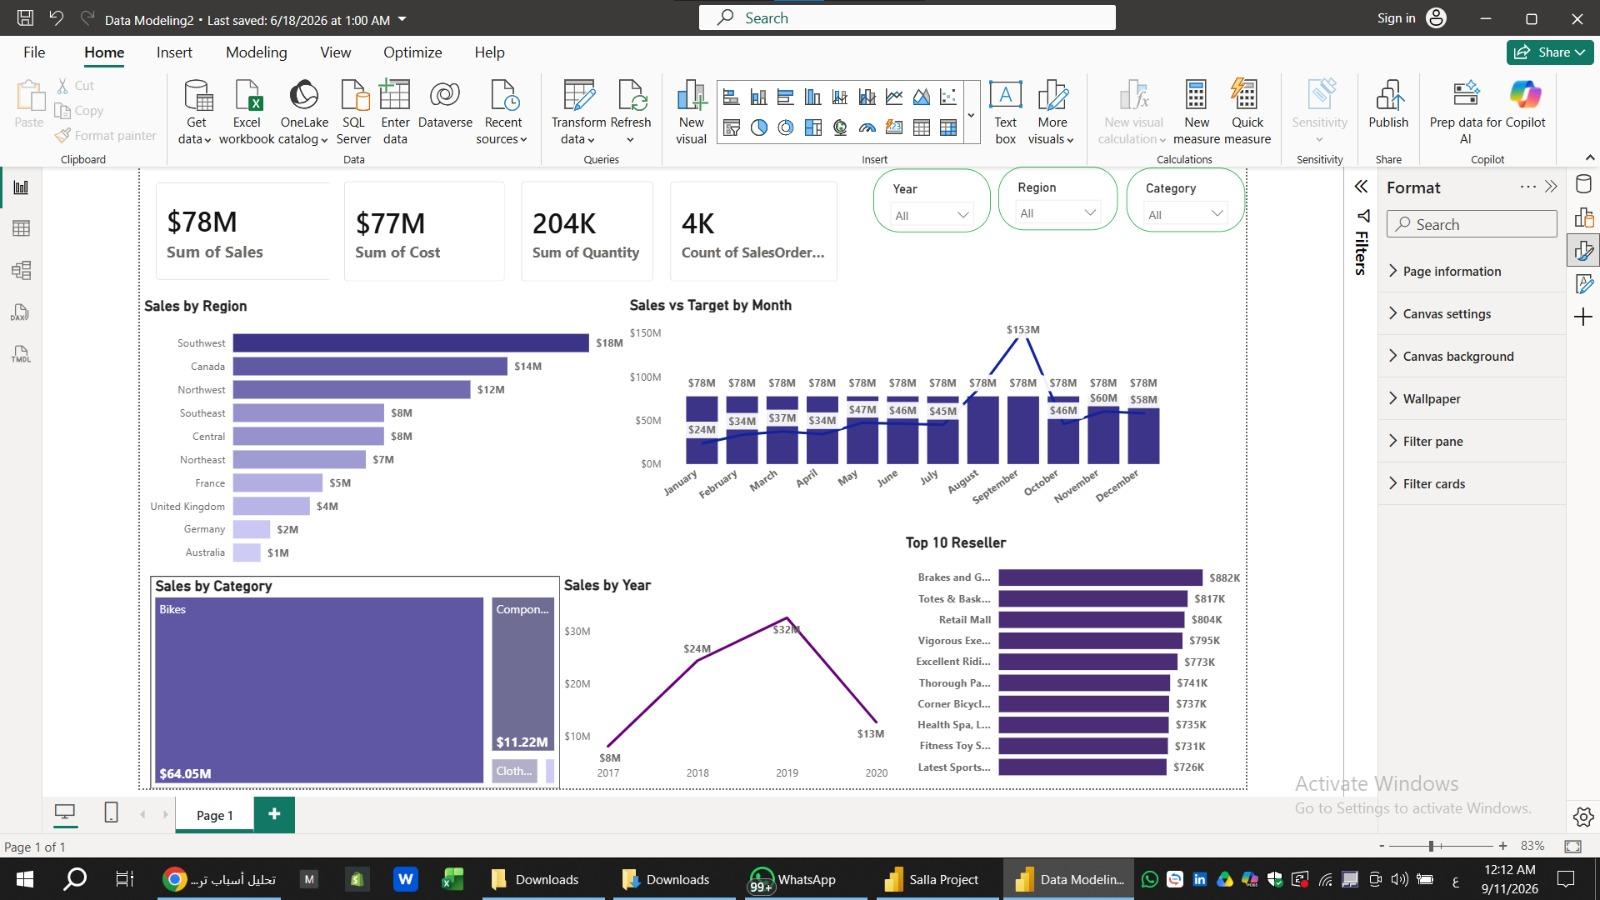

The page's visual inventory and layout, read from the dashboard file:
{"tool":"powerbi","page":{"name":"Page 1","canvas":[1280,720],"ordinal":0},"visuals":[{"type":"cardVisual","fields":{"Data":["Sum(Facts Sales.Sales)"]},"box":[0,0,241.1,149.3],"z":0},{"type":"cardVisual","fields":{"Data":["Sum(Facts Sales.Cost)"]},"box":[219.2,0,220.5,150.7],"z":1000},{"type":"cardVisual","fields":{"Data":["Count(Facts Sales.SalesOrderNumber)"]},"box":[597.2,0,228,150.8],"z":2000},{"type":"cardVisual","fields":{"Data":["Sum(Facts Sales.Quantity)"]},"box":[424.7,0,187.7,150.7],"z":3000},{"type":"barChart","title":"Sales by Region","fields":{"Category":["Dim Region.Region"],"Y":["Sum(Facts Sales.Sales)"]},"box":[0,150.7,571.2,323.3],"z":4000},{"type":"treemap","title":"Sales by Category","fields":{"Group":["Dim Product.Category"],"Values":["Sum(Facts Sales.Sales)"]},"box":[12.1,474.1,474.1,246.1],"z":5000},{"type":"barChart","title":"Top 10 Reseller","fields":{"Category":["Dim Reseller.Reseller"],"Y":["Sum(Facts Sales.Sales)"]},"box":[881.9,424.7,398.1,295.6],"z":6000},{"type":"lineStackedColumnComboChart","title":"Sales vs Target by Month","fields":{"Category":["Dim Targets.TargetMonth.Variation.Date Hierarchy.Month"],"Y":["Sum(Facts Sales.Sales)"],"Y2":["Sum(Dim Targets.Target)"]},"box":[562.2,149.6,643,263],"z":7000},{"type":"lineChart","title":" Sales by Year","fields":{"Category":["Facts Sales.OrderDate.Variation.Date Hierarchy.Year"],"Y":["Sum(Facts Sales.Sales)"]},"box":[486.2,474.1,384.9,246.1],"z":8000},{"type":"slicer","fields":{"Values":["Dim Targets.TargetMonth.Variation.Date Hierarchy.Year"]},"box":[849.3,2.4,136.3,73.6],"z":9000},{"type":"slicer","fields":{"Values":["Dim Product.Category"]},"box":[1142.5,1.2,137.5,74.8],"z":10000},{"type":"slicer","fields":{"Values":["Dim Region.Region"]},"box":[994.1,0,138.7,73.6],"z":11000}]}

Visuals, with their boxes on the page's 1280x720 design canvas (x1, y1, x2, y2). These are canvas units, not pixel positions in the 1600x900 screenshot, which may show the page scaled, cropped or inside an application window:
cardVisual - Sum(Facts Sales.Sales): 0, 0, 241, 149
cardVisual - Sum(Facts Sales.Cost): 219, 0, 440, 151
cardVisual - Count(Facts Sales.SalesOrderNumber): 597, 0, 825, 151
cardVisual - Sum(Facts Sales.Quantity): 425, 0, 612, 151
"Sales by Region" barChart: 0, 151, 571, 474
"Sales by Category" treemap: 12, 474, 486, 720
"Top 10 Reseller" barChart: 882, 425, 1280, 720
"Sales vs Target by Month" lineStackedColumnComboChart: 562, 150, 1205, 413
" Sales by Year" lineChart: 486, 474, 871, 720
slicer - Dim Targets.TargetMonth.Variation.Date Hierarchy.Year: 849, 2, 986, 76
slicer - Dim Product.Category: 1142, 1, 1280, 76
slicer - Dim Region.Region: 994, 0, 1133, 74
